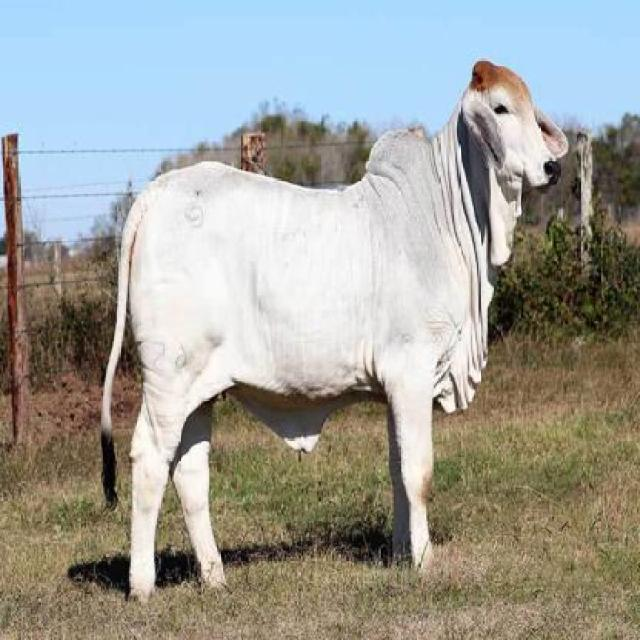Cow: (88, 60, 569, 609)
